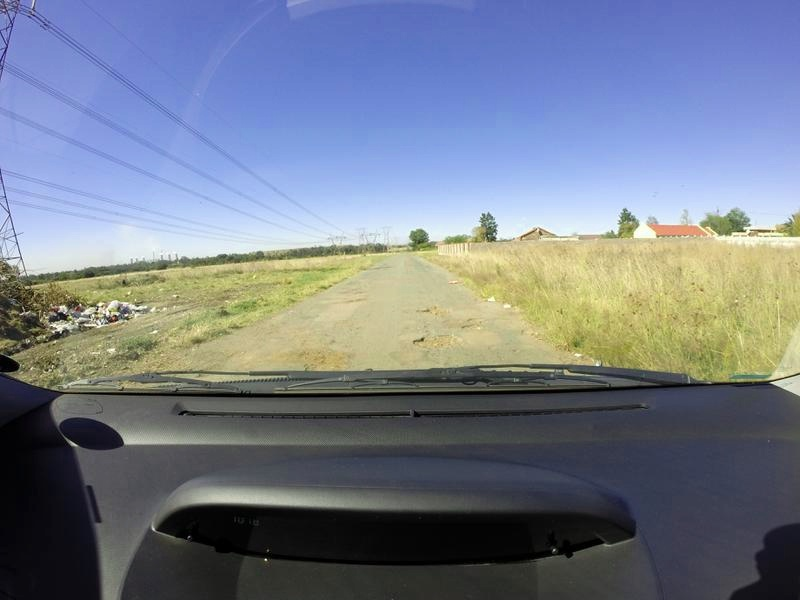pothole: (300, 343, 343, 368), (411, 332, 458, 345), (418, 303, 454, 319), (467, 312, 480, 321), (462, 322, 480, 328)
